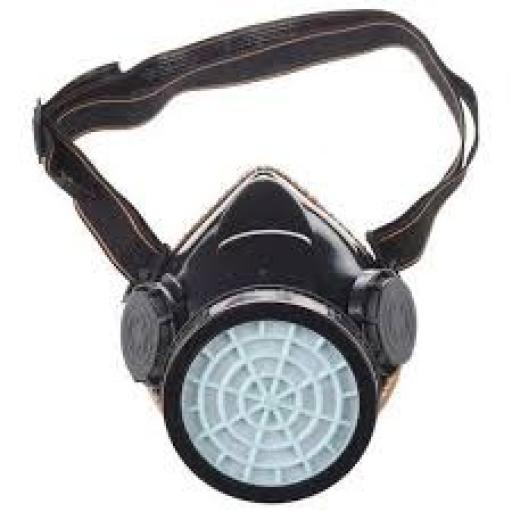mask: (82, 167, 464, 512)
